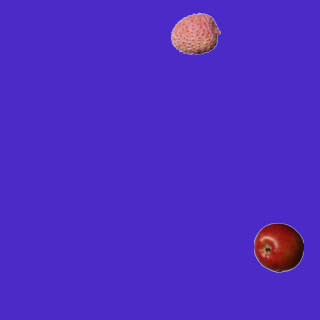Apple Braeburn: (253, 222, 303, 272)
Lychee: (170, 8, 220, 58)
